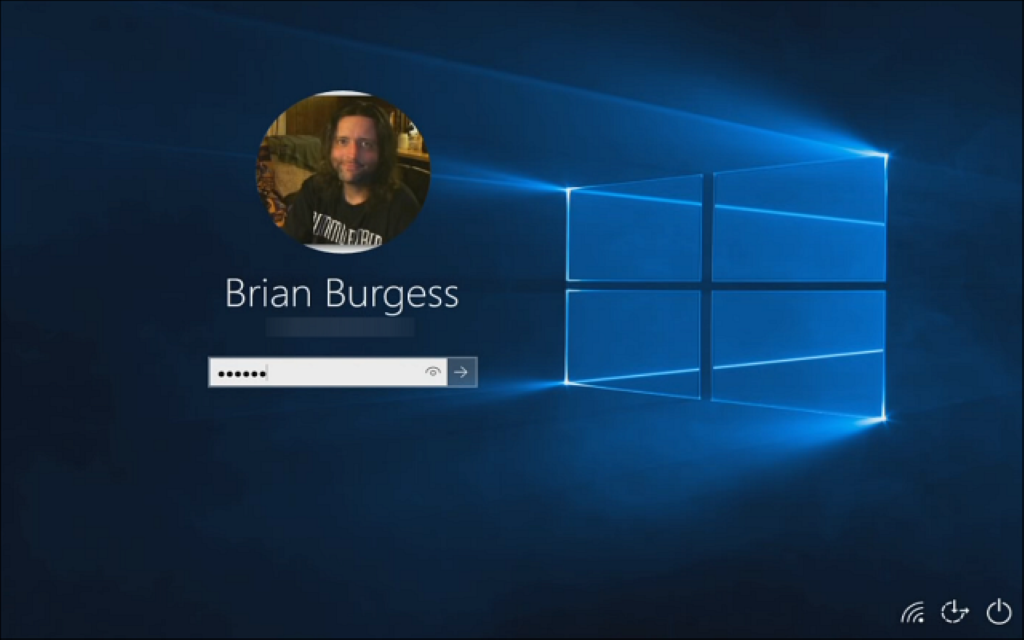button: (446, 358, 475, 385)
textbox: (207, 357, 424, 387)
